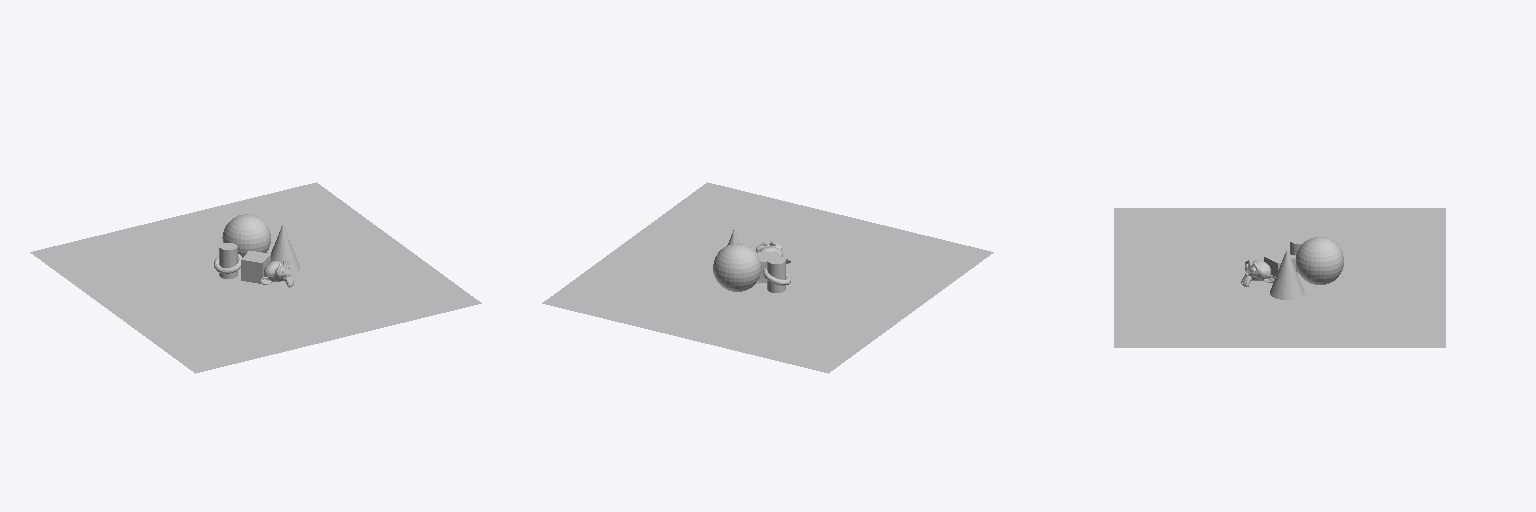
The model's file is SmallScene.obj.
3 views of the same model, side by side, from view 1: azimuth 30°, elevation 25°; view 2: azimuth 150°, elevation 25°; view 3: azimuth 270°, elevation 25° (orthographic).
Visible parts, largest first — view 1: Plane, Sphere, Cube, Cone, Suzanne, Cylinder; view 2: Plane, Sphere, Cylinder; view 3: Plane, Sphere, Cone, Suzanne.
Boxes of the visible parts, x1=… form: Plane: x1=30, y1=182, x2=481, y2=373; Sphere: x1=222, y1=214, x2=270, y2=257; Cube: x1=241, y1=250, x2=270, y2=283; Cone: x1=271, y1=225, x2=299, y2=273; Suzanne: x1=261, y1=260, x2=293, y2=287; Cylinder: x1=219, y1=243, x2=237, y2=278; Plane: x1=542, y1=182, x2=993, y2=373; Sphere: x1=713, y1=243, x2=761, y2=291; Cylinder: x1=767, y1=256, x2=785, y2=292; Plane: x1=1114, y1=208, x2=1445, y2=347; Sphere: x1=1296, y1=237, x2=1343, y2=284; Cone: x1=1270, y1=250, x2=1304, y2=299; Suzanne: x1=1241, y1=260, x2=1275, y2=286.
Size of the model in its own units: 20.71 by 3.07 by 20.71.